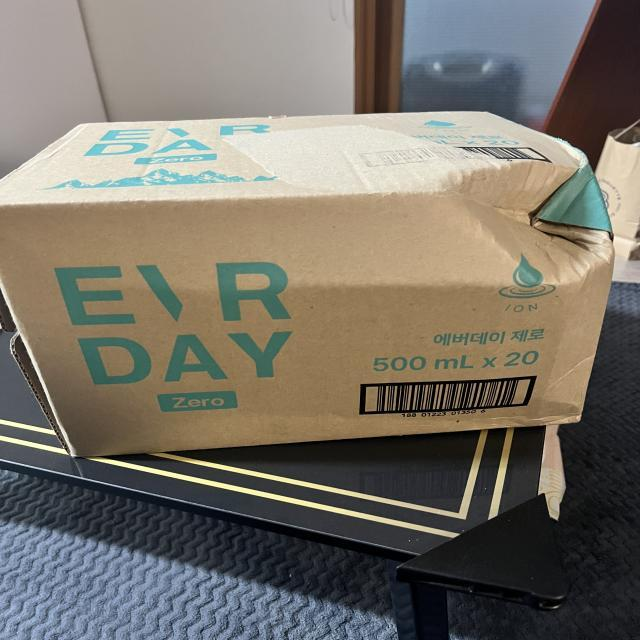box: (19, 76, 640, 499)
